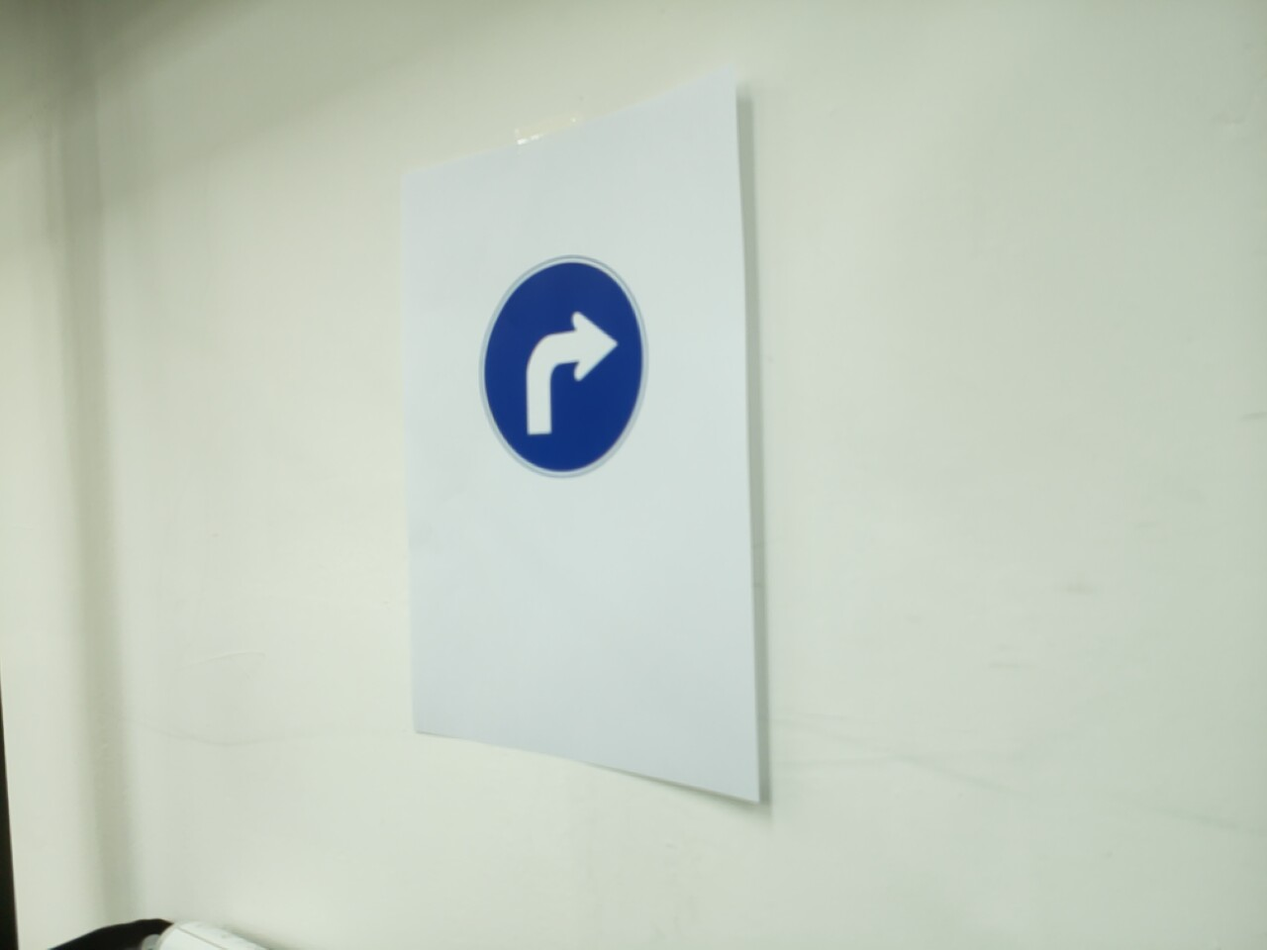right_turn: (477, 254, 649, 480)
